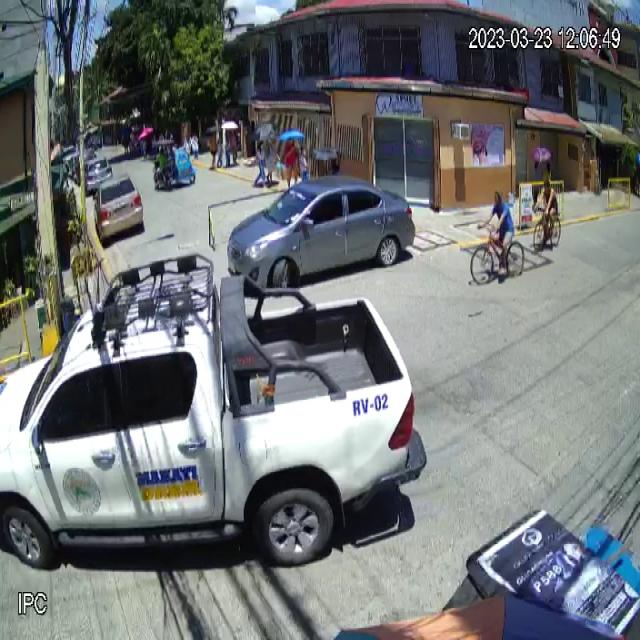Car: (0, 250, 428, 572), (226, 172, 418, 292), (94, 171, 144, 242)
